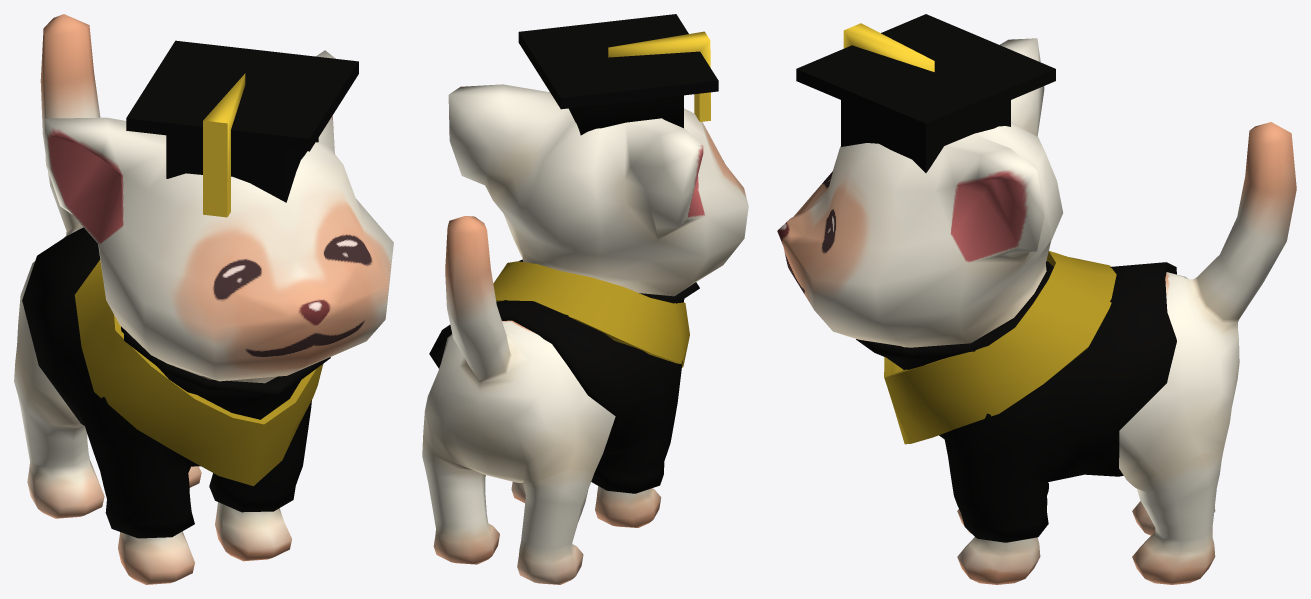
The model's file is Scholar Cat02.fbx.
The picture shows the model from 3 angles, left to right: view 1: azimuth 30°, elevation 25°; view 2: azimuth 150°, elevation 25°; view 3: azimuth 270°, elevation 25°; orthographic projection. The views are drawn at different scales.
Parts seen in each view (by area): view 1: Cat_Base001, Scholar_Cat_Shirt, Scholar_Cat_Cap, Plane003; view 2: Cat_Base001, Scholar_Cat_Cap, Scholar_Cat_Shirt, Plane003; view 3: Cat_Base001, Scholar_Cat_Shirt, Scholar_Cat_Cap, Plane003.
Part boxes in pixels (x1=…): Cat_Base001: x1=14, y1=14, x2=393, y2=584; Scholar_Cat_Shirt: x1=22, y1=227, x2=330, y2=538; Scholar_Cat_Cap: x1=126, y1=40, x2=358, y2=217; Plane003: x1=74, y1=260, x2=323, y2=486; Cat_Base001: x1=422, y1=84, x2=748, y2=584; Scholar_Cat_Cap: x1=518, y1=14, x2=718, y2=135; Scholar_Cat_Shirt: x1=429, y1=259, x2=699, y2=493; Plane003: x1=493, y1=261, x2=689, y2=367; Cat_Base001: x1=777, y1=38, x2=1296, y2=584; Scholar_Cat_Shirt: x1=856, y1=261, x2=1176, y2=542; Scholar_Cat_Cap: x1=796, y1=14, x2=1055, y2=172; Plane003: x1=884, y1=251, x2=1116, y2=444.
Size of the model in its own units: 1.75 by 2.83 by 2.97.
4 materials, 1 textured.
